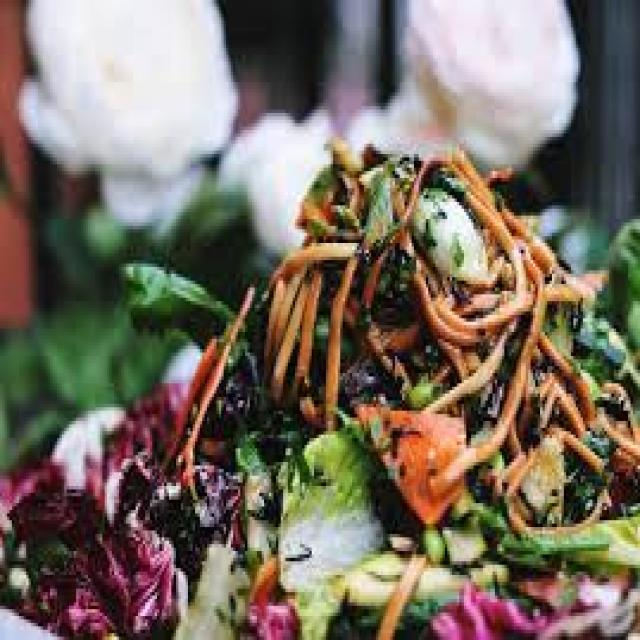food_waste: (311, 193, 582, 614), (56, 456, 591, 617)
